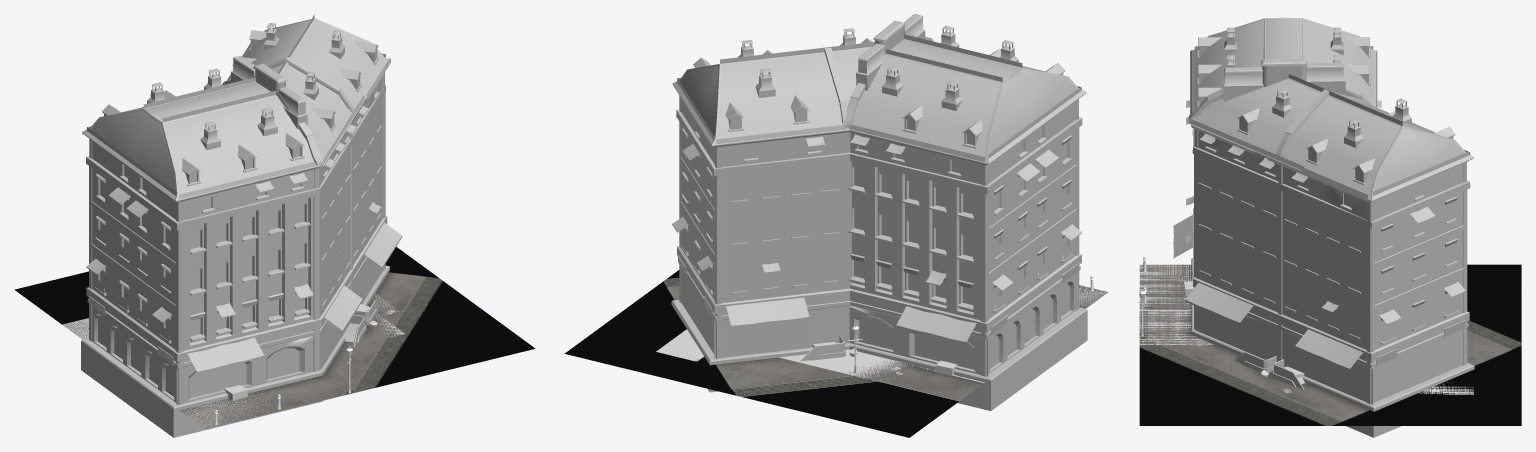
File: wide2.gltf
3 renders of one model, left to right at view 1: azimuth 30°, elevation 25°; view 2: azimuth 150°, elevation 25°; view 3: azimuth 270°, elevation 25°, orthographic. The views are drawn at different scales.
Parts seen in each view (by area): view 1: _lod0, _ground, _04_lod0.041, _04_lod0.037, left.003, _04_lod0.046, _04_lod0.038, BuildBlocker2, _04_lod0.044; view 2: _lod0, _04_lod0.041, _ground, BuildBlocker2, left.003, stairs.006, PriorityFeedbackBlocker23; view 3: _lod0, _ground, _04_lod0.041, _04_lod0.037, _04_lod0.038, _04_lod0.046, BuildBlocker2, left.003, _04_lod0.039, _04_lod0.040, _04_lod0.044, stairs.008 (+2 smaller).
Boxes of the visible parts, x1,y1,x2,y2 form: _lod0: (81,14,402,437); _ground: (14,247,535,429); _04_lod0.041: (228,20,401,401); _04_lod0.037: (320,158,343,312); left.003: (236,56,322,165); _04_lod0.046: (321,285,362,369); _04_lod0.038: (286,81,347,165); BuildBlocker2: (62,318,283,428); _04_lod0.044: (266,57,354,112); _lod0: (672,14,1087,410); _04_lod0.041: (671,45,847,392); _ground: (564,270,1108,437); BuildBlocker2: (787,285,1107,380); left.003: (842,14,933,124); stairs.006: (810,308,848,356); PriorityFeedbackBlocker23: (656,329,703,361); _lod0: (1173,17,1474,437); _ground: (1139,264,1521,425); _04_lod0.041: (1191,86,1467,437); _04_lod0.037: (1196,155,1259,298); _04_lod0.038: (1187,79,1302,151); _04_lod0.046: (1185,282,1255,355); BuildBlocker2: (1139,264,1250,345); left.003: (1188,58,1364,119); _04_lod0.039: (1259,156,1325,201); _04_lod0.040: (1200,132,1261,173); _04_lod0.044: (1275,89,1368,156); stairs.008: (1241,328,1277,372).
Size of what is drawn, in the model's own units: 4.11 by 3.45 by 4.02.
